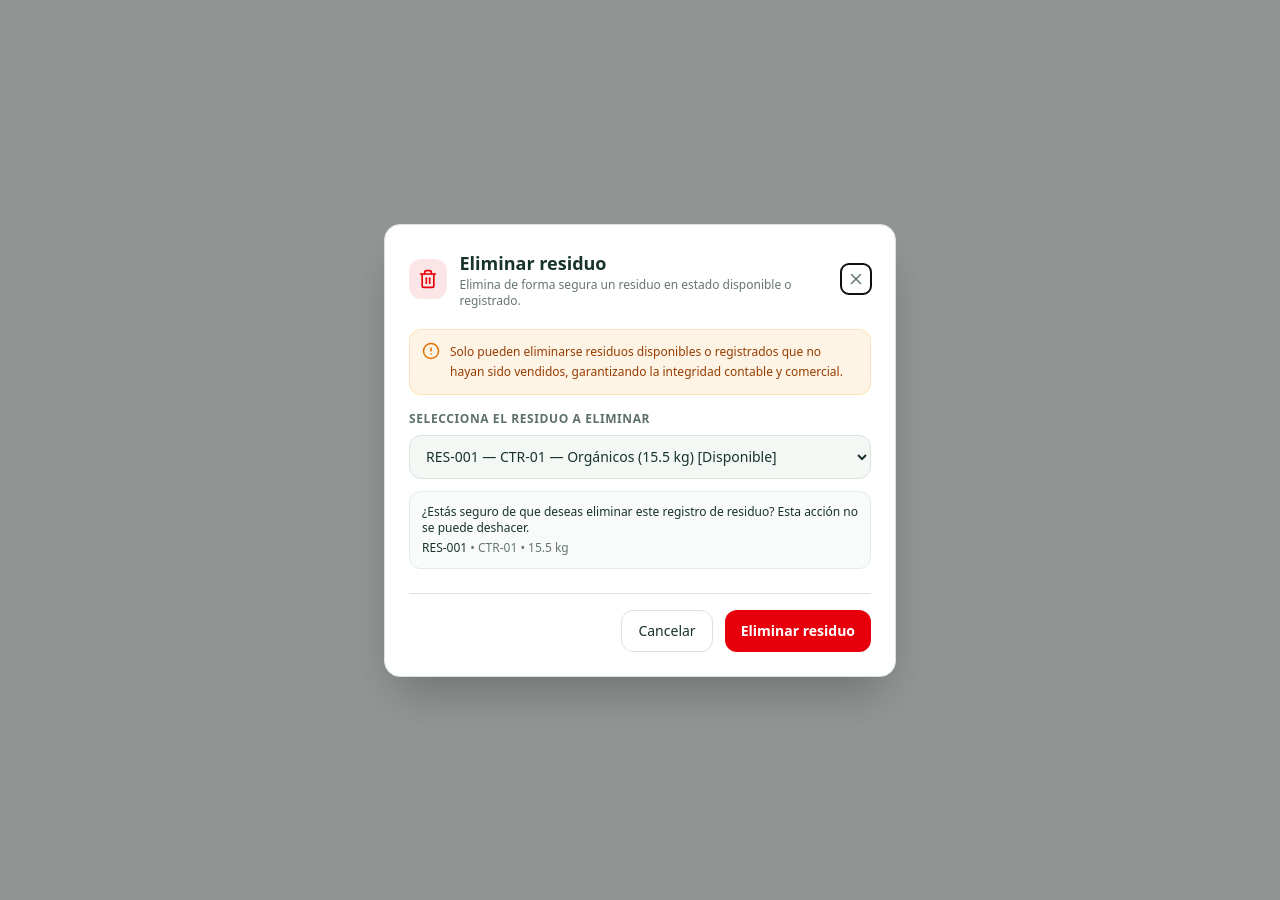
Test: DeleteWasteRecordModal Component - Eliminación Segura de Residuos › 3. Permite seleccionar un residuo diferente y actualiza la confirmación visual
The image size is (1280, 900).
Select "RES-003 — CTR-01 — No aprovechables (8.2 kg) [Registrado]" in the dropdown with test id "delete-waste-select" at (640, 456), box [409,434,871,478]
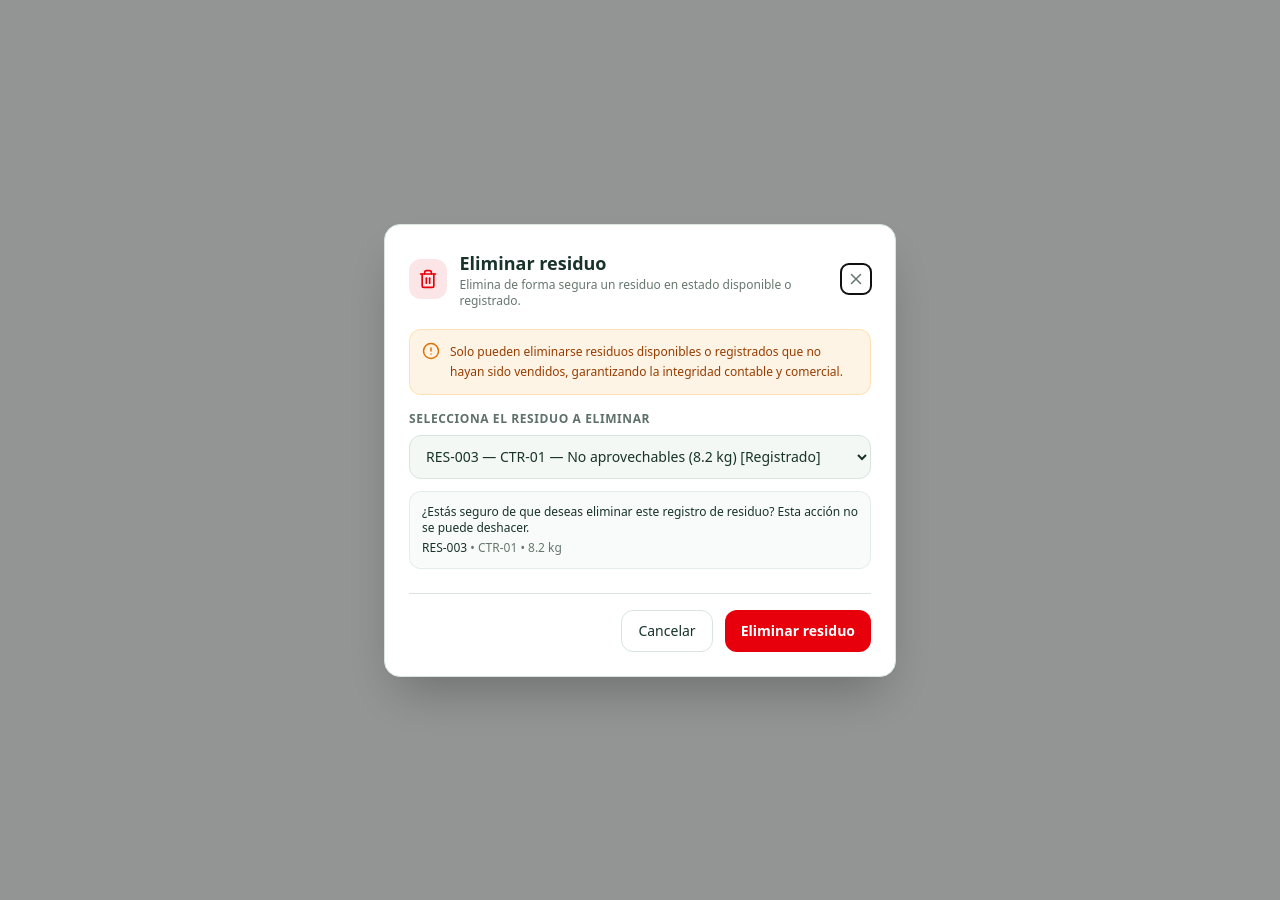
Result: the text "RES-003" is shown at [422,538,467,556]
Result: the text "8.2 kg" is shown at [528,538,562,556]
